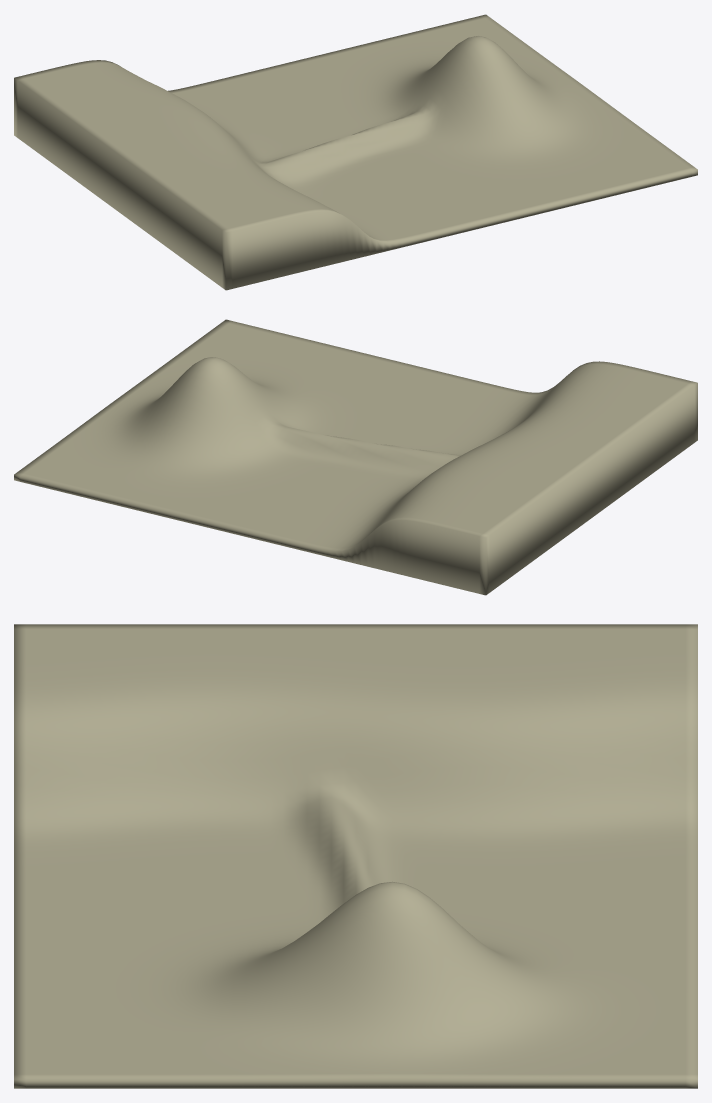
The model's file is tombolo.glb.
The picture shows the model from 3 angles, top to bottom: view 1: azimuth 30°, elevation 25°; view 2: azimuth 150°, elevation 25°; view 3: azimuth 270°, elevation 25°; orthographic projection. The views are drawn at different scales.
Parts seen in each view (by area): view 1: continuous-mainland-sediment-neck-offshore-island-land-and-b; view 2: continuous-mainland-sediment-neck-offshore-island-land-and-b; view 3: continuous-mainland-sediment-neck-offshore-island-land-and-b.
Part boxes in pixels (x1,y1,x2,y2): continuous-mainland-sediment-neck-offshore-island-land-and-b: [14, 14, 697, 290]; continuous-mainland-sediment-neck-offshore-island-land-and-b: [14, 319, 697, 595]; continuous-mainland-sediment-neck-offshore-island-land-and-b: [14, 624, 697, 1088].
Size of the model in its own units: 18 by 2.79 by 14.
